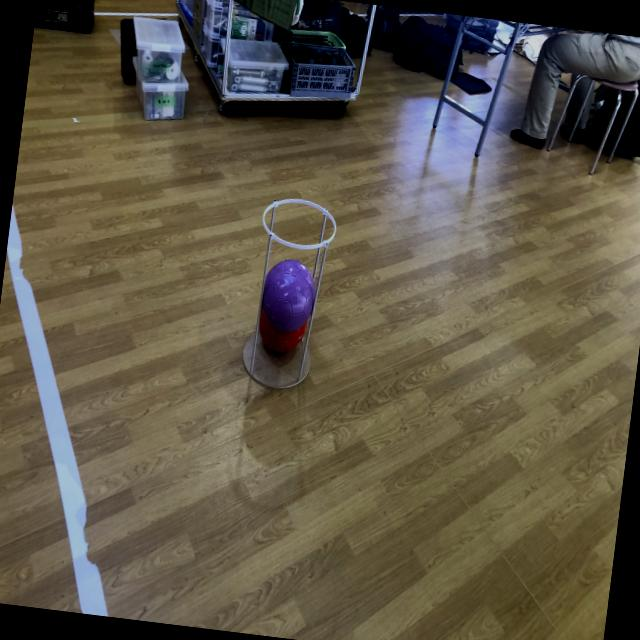purple_ball: (259, 258, 320, 332)
red_ball: (254, 309, 309, 356)
